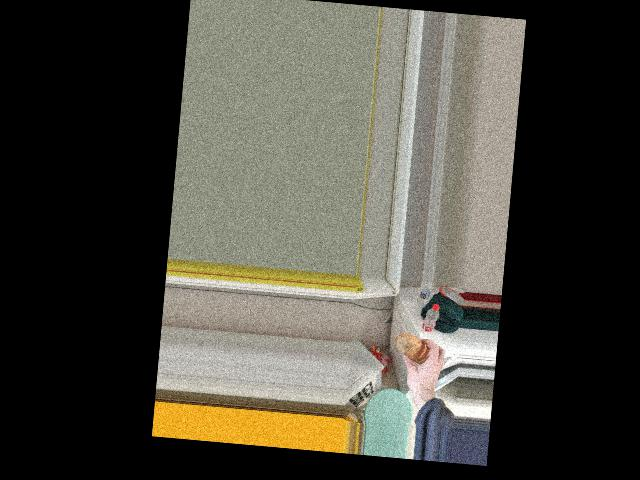sweet_potato: (399, 332, 432, 365)
